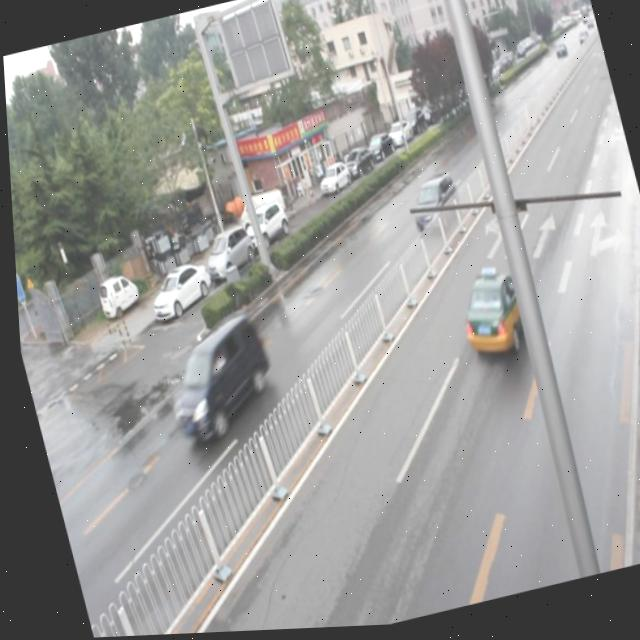car: (148, 310, 280, 452), (445, 263, 537, 368), (401, 175, 461, 241)
